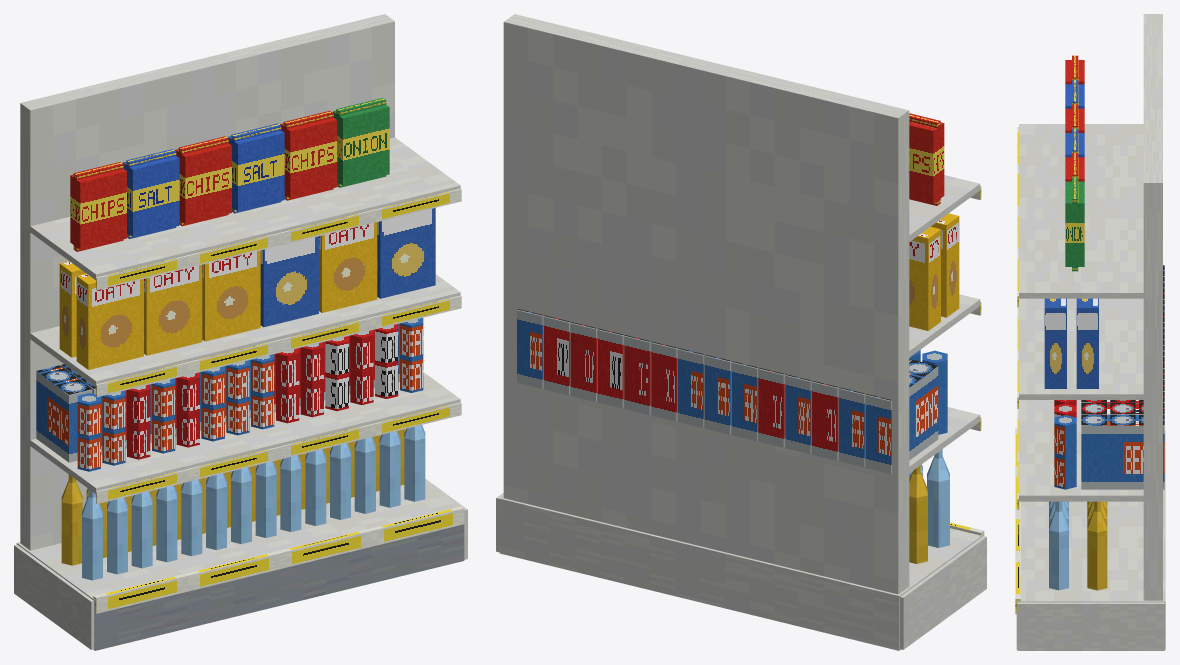
Rendered from StoreShelf_Normal.fbx.
The picture shows the model from 3 angles, left to right: view 1: azimuth 30°, elevation 25°; view 2: azimuth 150°, elevation 25°; view 3: azimuth 270°, elevation 25°; orthographic projection. The views are drawn at different scales.
Parts seen in each view (by area): view 1: StoreShelf.001; view 2: StoreShelf.001; view 3: StoreShelf.001.
Part boxes in pixels (x1,y1,x2,y2): StoreShelf.001: (14, 14, 467, 650); StoreShelf.001: (496, 14, 986, 650); StoreShelf.001: (1015, 14, 1165, 650).
Bounding box in the file's own units: 129 × 161 × 46.95.
